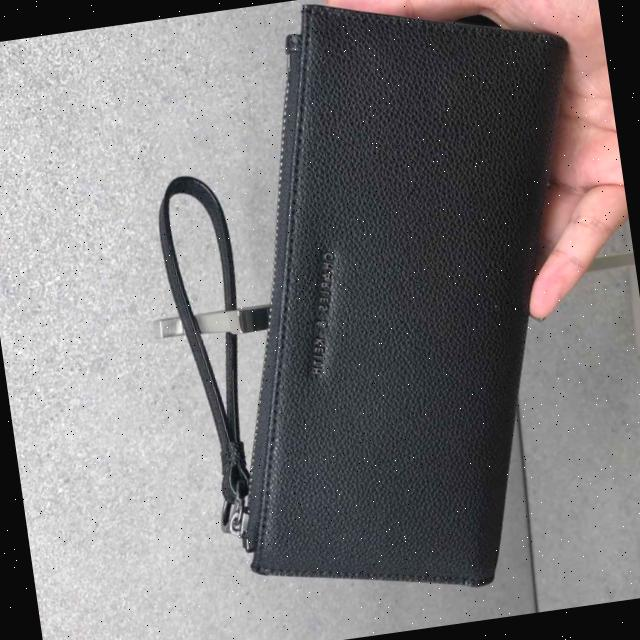Handbag: (167, 0, 640, 620)
